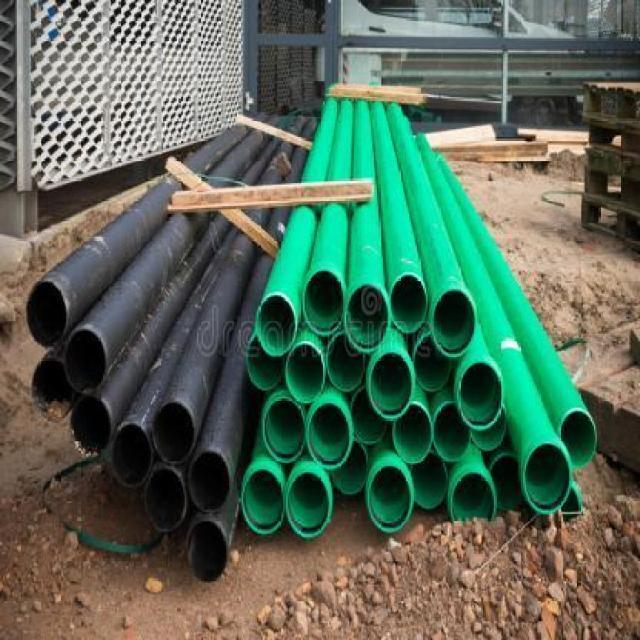pipe: (525, 443, 573, 514), (459, 362, 505, 431), (346, 285, 391, 353), (369, 352, 414, 420), (306, 402, 351, 470), (369, 465, 414, 533), (242, 468, 287, 536), (286, 473, 331, 539), (26, 282, 69, 350), (433, 289, 476, 357), (263, 397, 306, 463), (303, 270, 345, 336), (190, 450, 233, 513), (65, 329, 108, 391), (153, 402, 196, 464), (145, 470, 187, 533), (71, 395, 113, 457), (111, 425, 153, 487), (186, 520, 228, 582), (257, 295, 297, 357), (33, 358, 73, 420), (393, 403, 433, 465), (451, 472, 497, 523), (286, 343, 325, 402), (433, 402, 471, 462), (558, 410, 597, 468), (328, 334, 366, 392), (391, 274, 428, 333), (411, 451, 448, 510), (414, 334, 452, 391), (333, 437, 370, 495), (351, 388, 390, 443), (248, 336, 285, 391), (491, 454, 524, 511), (472, 405, 508, 451)
